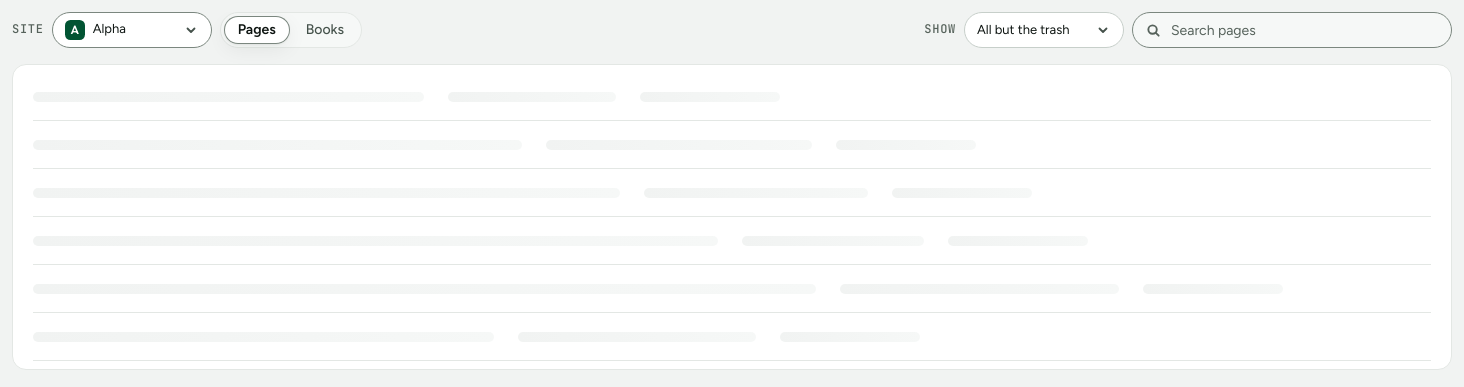
it: a slow site's list never shows under the site picked after it
Click the dropdown named "Site": (132, 30) x1=52 y1=12 x2=212 y2=48
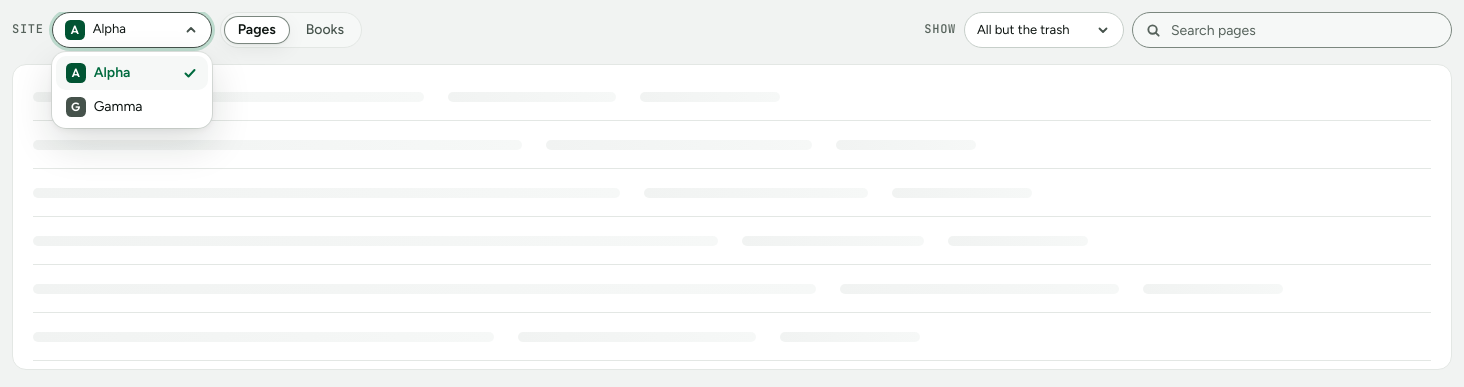
Click the option "G Gamma": (104, 107) x1=66 y1=97 x2=142 y2=117
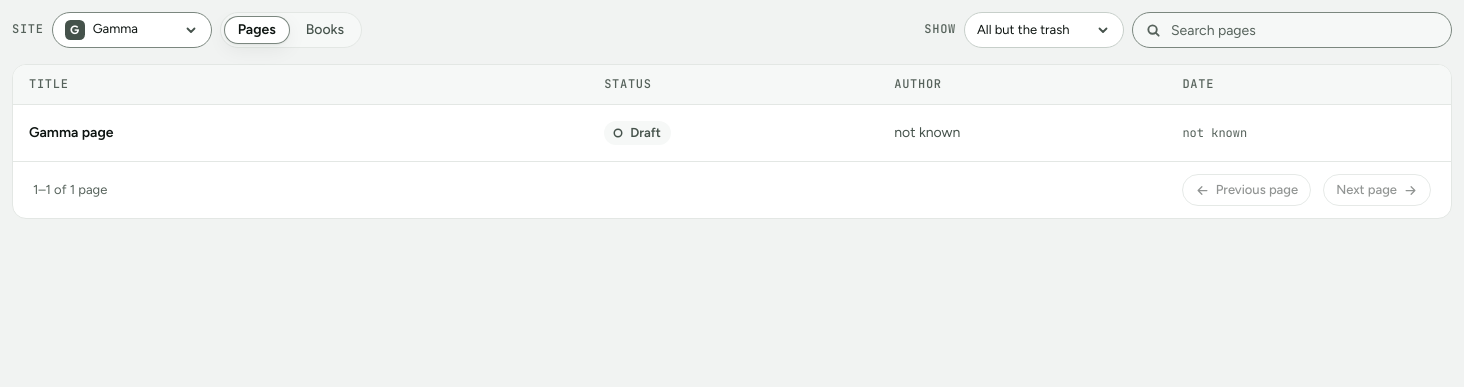
Expected: the button "Alpha Page" is gone
Expected: the button "Gamma page" is shown, x1=29 y1=123 x2=114 y2=143
